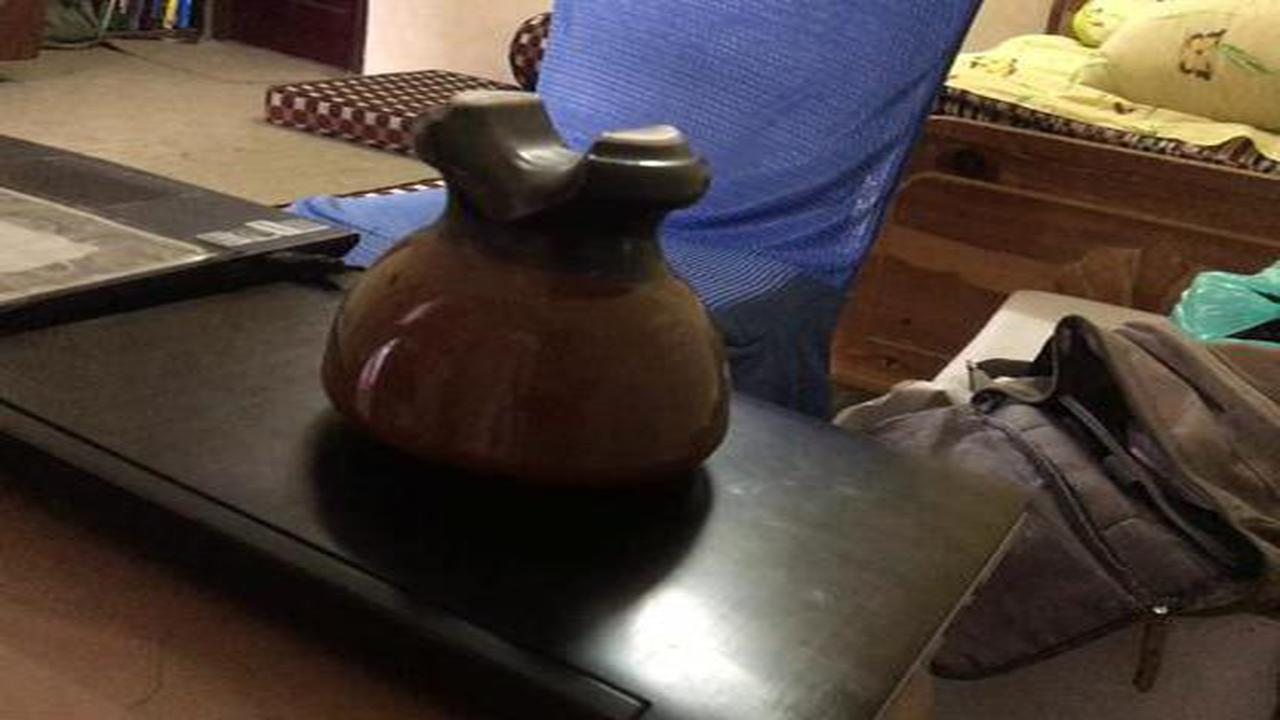insulator_pin: (313, 71, 748, 501)
